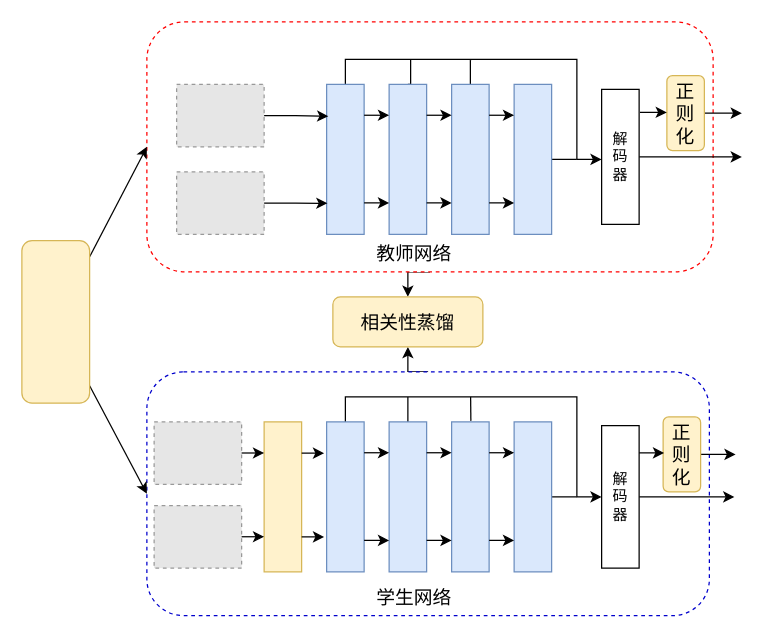
Some shapes in this 774 by 638 pixel diagram are drawn without their labels. Grey dashed boxes stand in for pictures. Each missing label, with the centre of its shape:
模 态 随 机 丢 弃 策 略: the point at 282,496
网络结构优化: the point at 55,321
